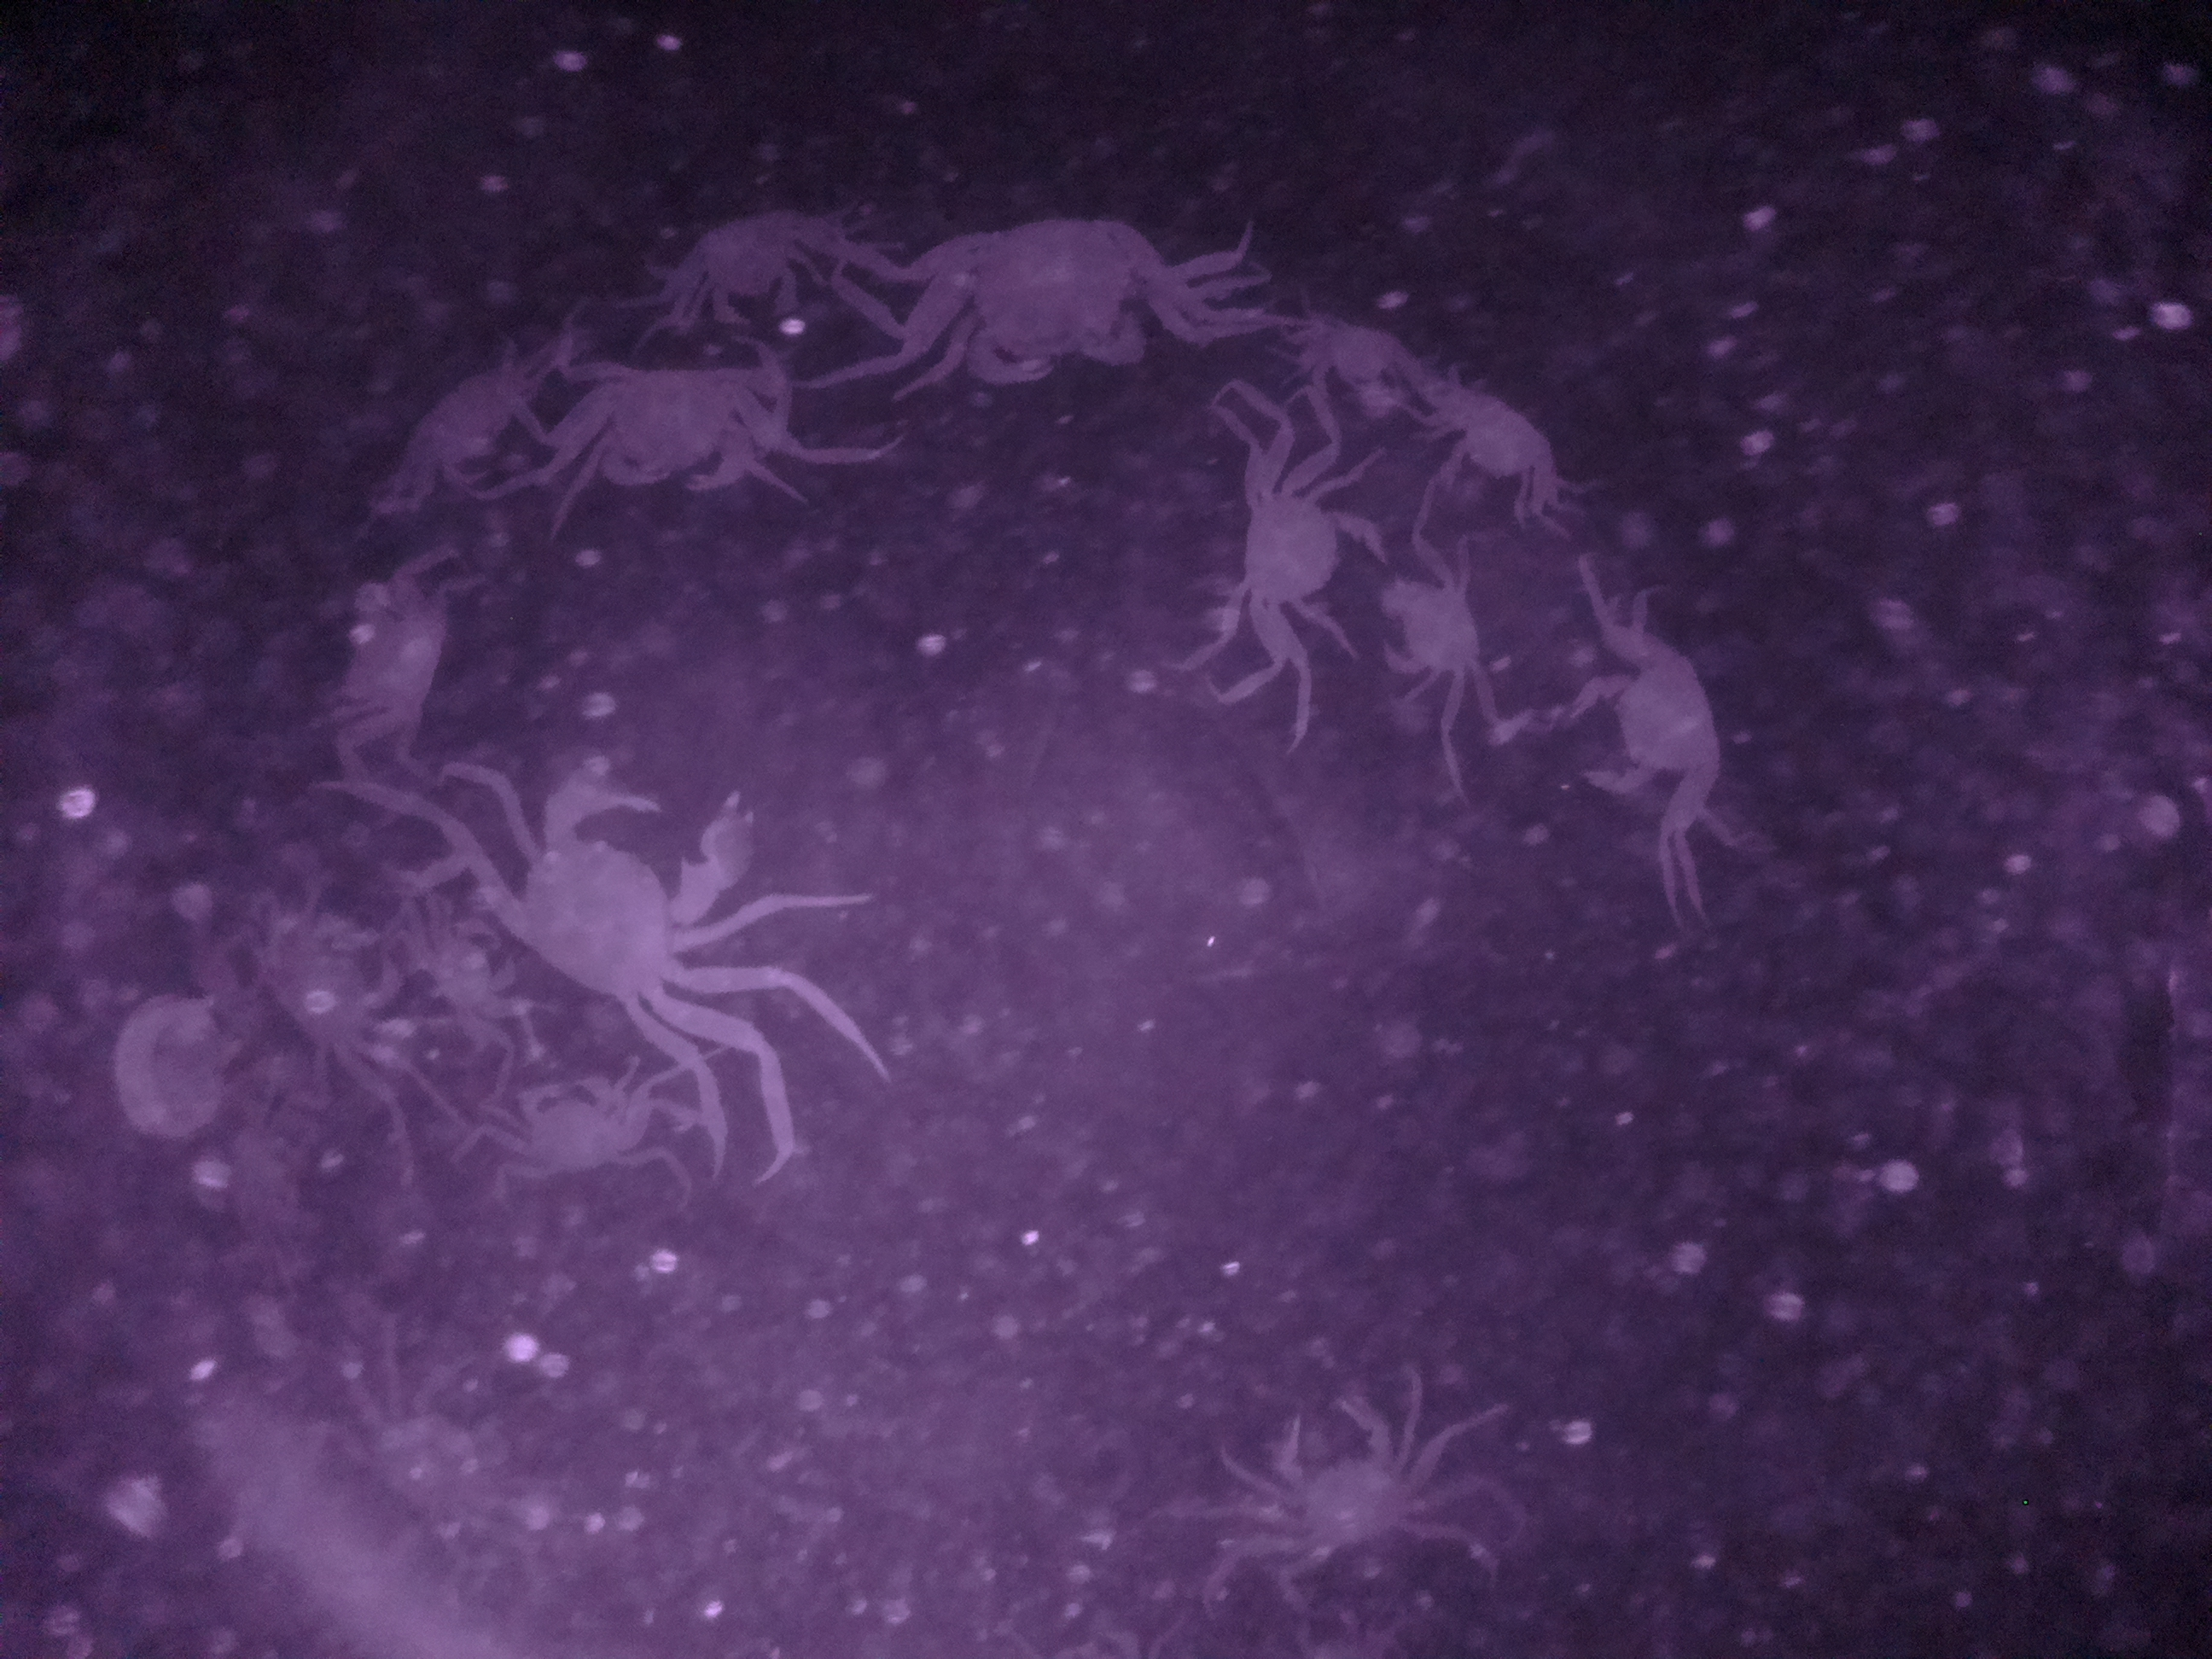Crab: (502, 746, 784, 1028), (911, 202, 1209, 399), (1247, 1375, 1463, 1584), (1569, 596, 1740, 835), (554, 338, 791, 505), (1211, 462, 1383, 643), (486, 1068, 676, 1202), (1428, 364, 1583, 526), (1371, 542, 1498, 697)
